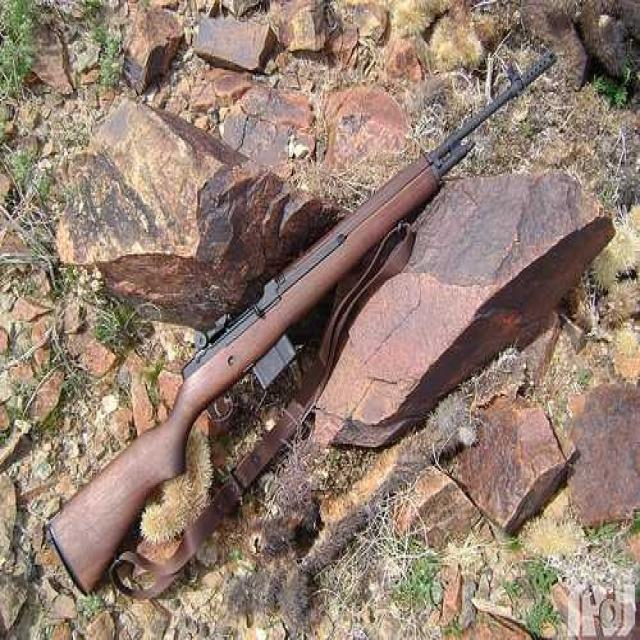heavyweapon: (33, 40, 562, 621)
